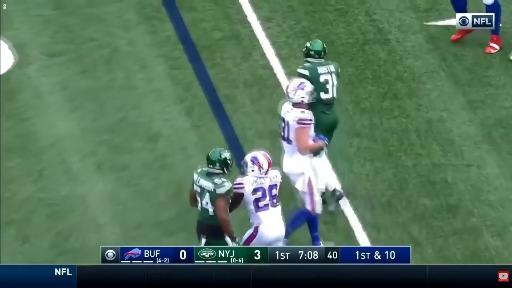Helmet: (286, 78, 314, 103), (243, 151, 271, 176), (207, 148, 232, 173), (303, 40, 326, 59)
Jersey: (234, 170, 282, 226), (298, 61, 339, 112), (194, 168, 232, 223), (281, 102, 314, 154)
Player: (281, 78, 327, 245), (231, 150, 285, 246), (190, 148, 239, 245), (298, 40, 339, 142), (484, 0, 502, 53), (509, 52, 511, 60)
